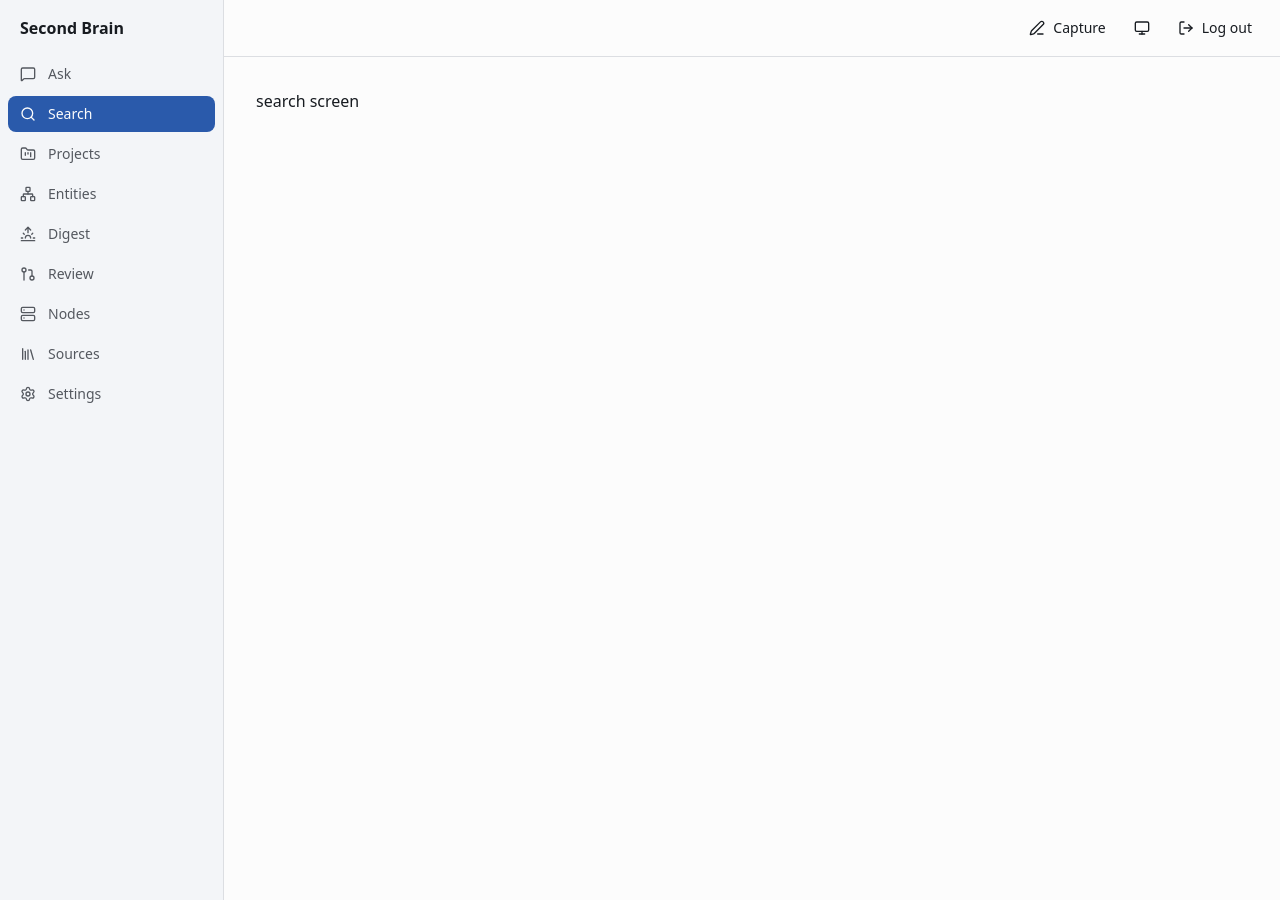
it: AppShell › capture › opens from the Capture button
Click the button "Capture" at (1068, 28), box [1017,12,1118,44]
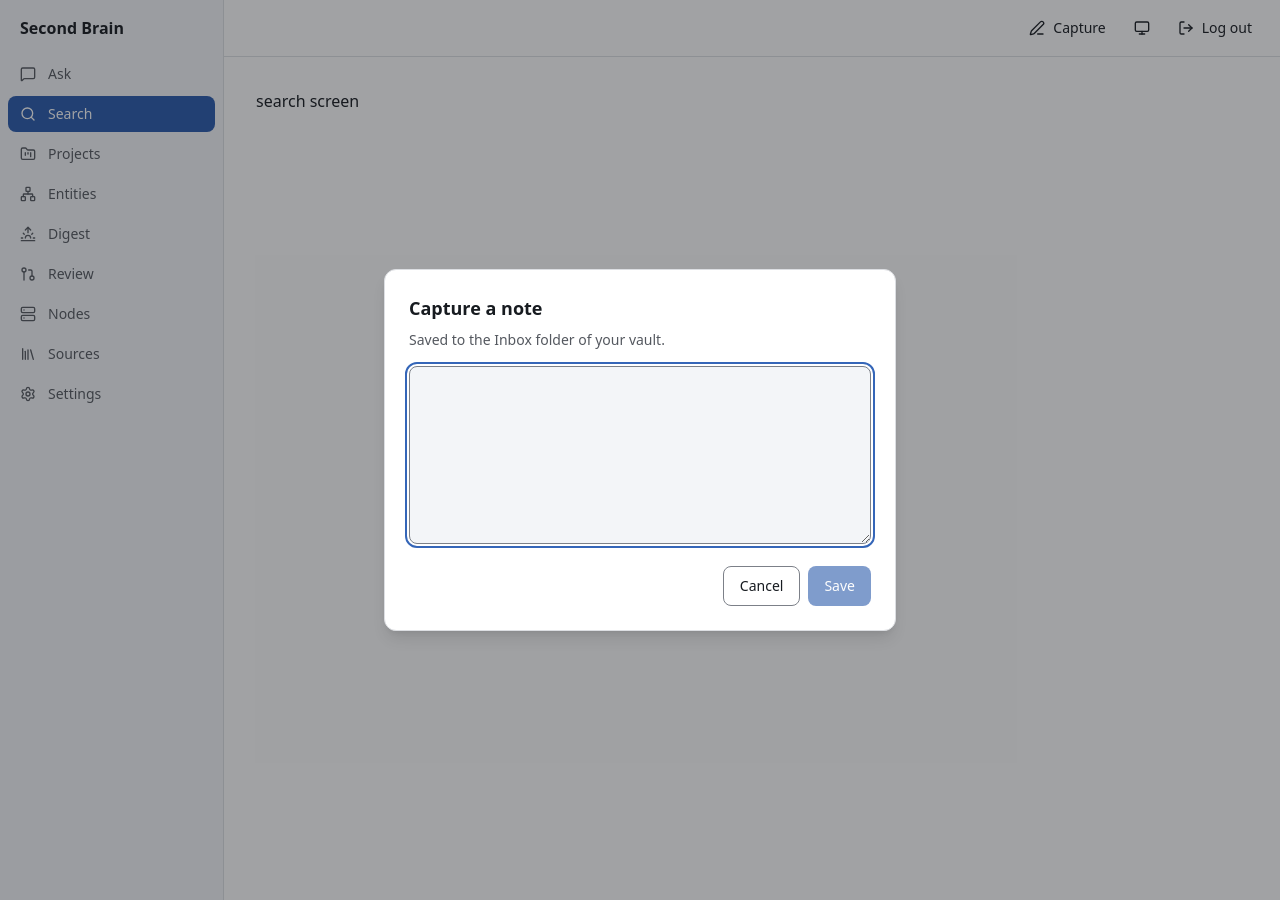
Check: the text box named "Note" is shown, box [409,366,871,544]
